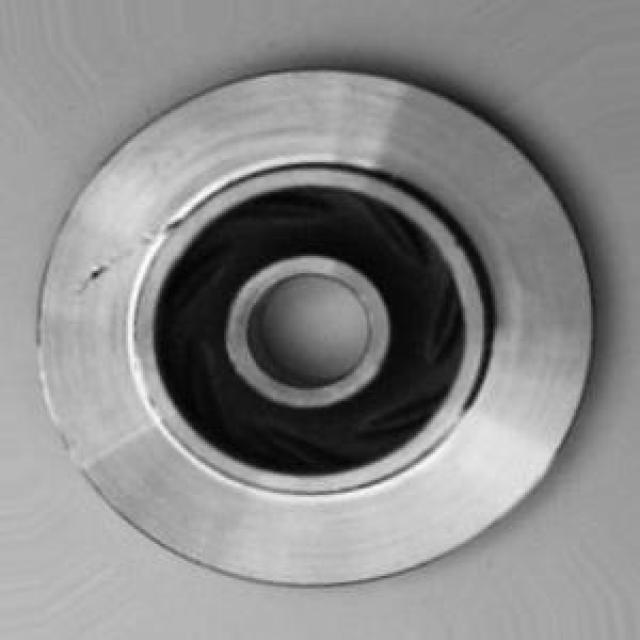Defect: (76, 253, 112, 286)
